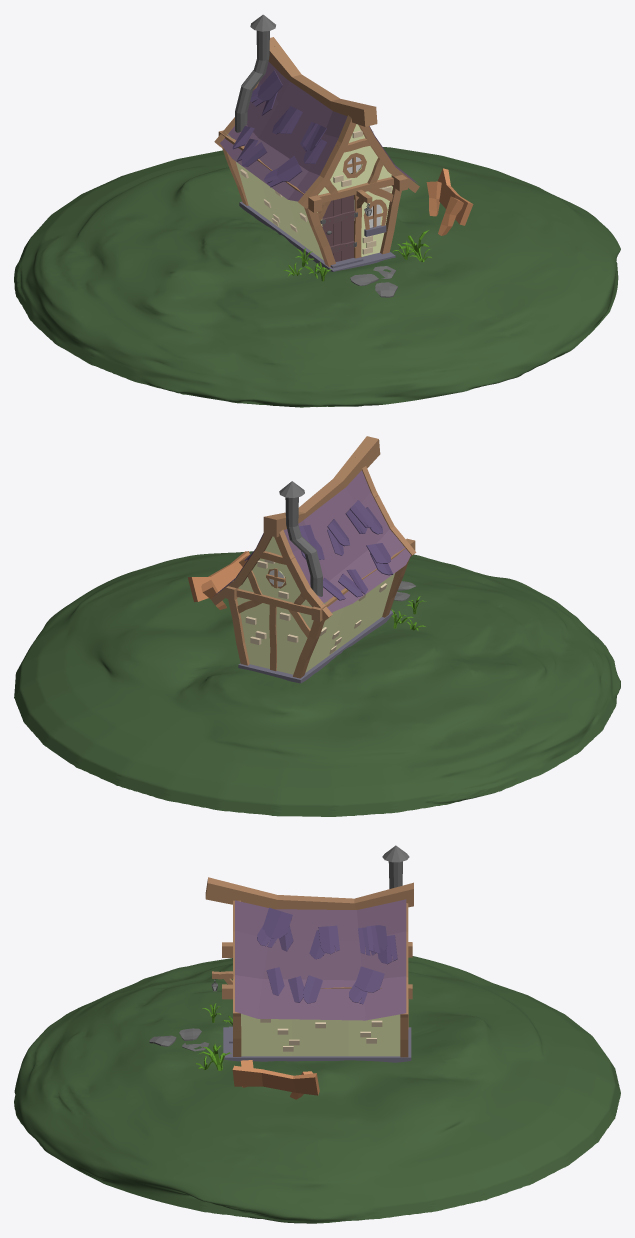
File: cottage.fbx
The picture shows the model from 3 angles, top to bottom: view 1: azimuth 30°, elevation 25°; view 2: azimuth 150°, elevation 25°; view 3: azimuth 270°, elevation 25°; orthographic projection.
Visible parts, largest first — view 1: Cottage; view 2: Cottage; view 3: Cottage.
Boxes of the visible parts, bbox=[...] form: Cottage: bbox=[14, 14, 620, 407]; Cottage: bbox=[14, 436, 620, 816]; Cottage: bbox=[14, 845, 620, 1223].
Bounding box in the file's own units: 1504 × 654 × 1493.
